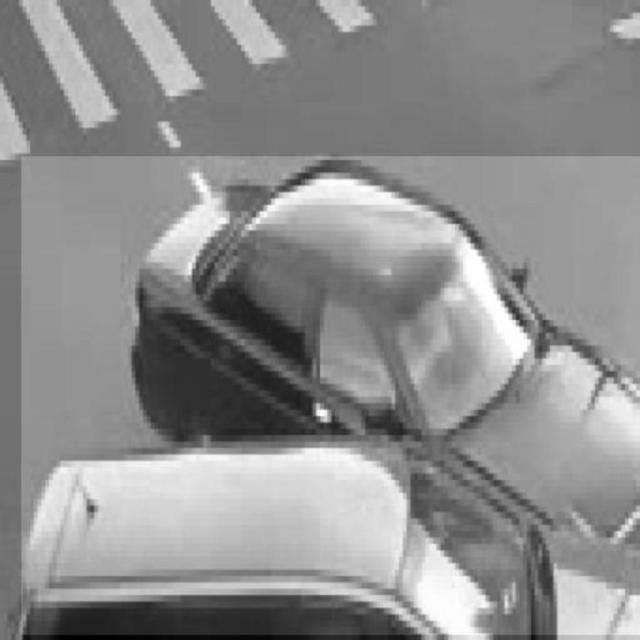accident: (21, 156, 639, 634)
